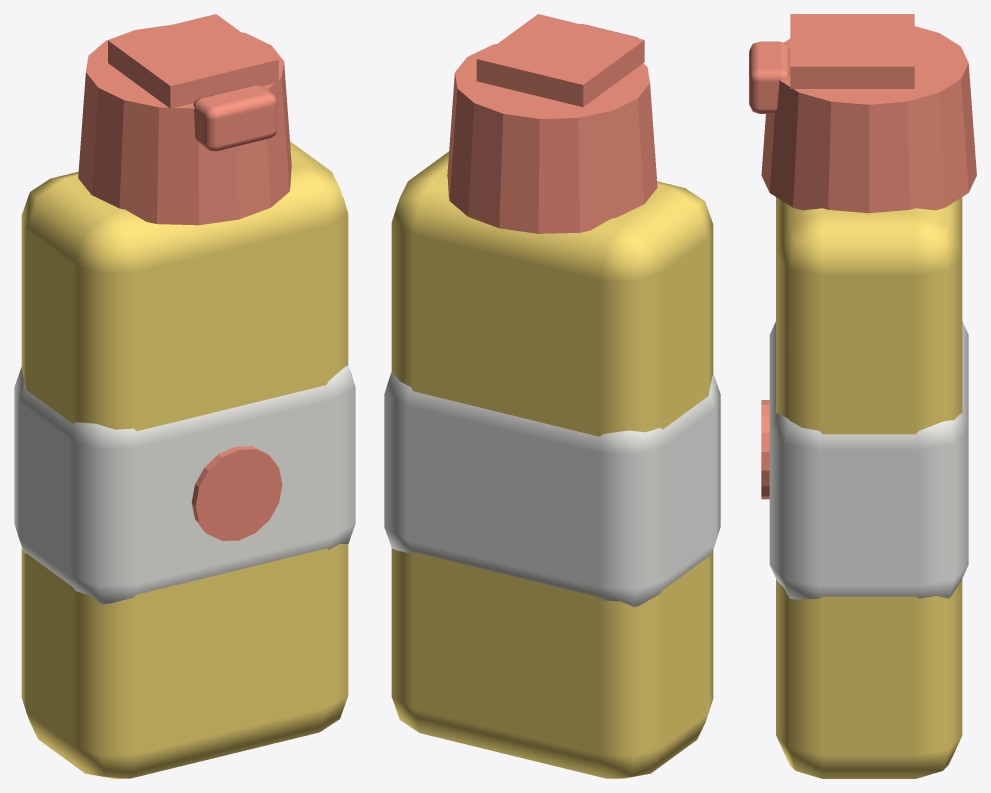
File: beach-surf-and-paddle-kit-sunscreen-bottle-b2e6b945__39449.glb
3 views of the same model, side by side, from view 1: azimuth 30°, elevation 25°; view 2: azimuth 150°, elevation 25°; view 3: azimuth 270°, elevation 25° (orthographic).
Visible parts, largest first — view 1: sunscreen-bottle-sun, sunscreen-bottle-foam, sunscreen-bottle-coral; view 2: sunscreen-bottle-sun, sunscreen-bottle-foam, sunscreen-bottle-coral; view 3: sunscreen-bottle-sun, sunscreen-bottle-coral, sunscreen-bottle-foam.
Part boxes in pixels (x1,y1,x2,y2): sunscreen-bottle-sun: (21,141,348,778); sunscreen-bottle-foam: (14,365,355,604); sunscreen-bottle-coral: (78,14,291,540); sunscreen-bottle-sun: (391,151,713,778); sunscreen-bottle-foam: (384,372,720,606); sunscreen-bottle-coral: (447,14,657,233); sunscreen-bottle-sun: (776,197,962,778); sunscreen-bottle-coral: (749,14,976,499); sunscreen-bottle-foam: (769,321,968,599).
Size of the model in its own units: 0.078 by 0.184 by 0.055.
